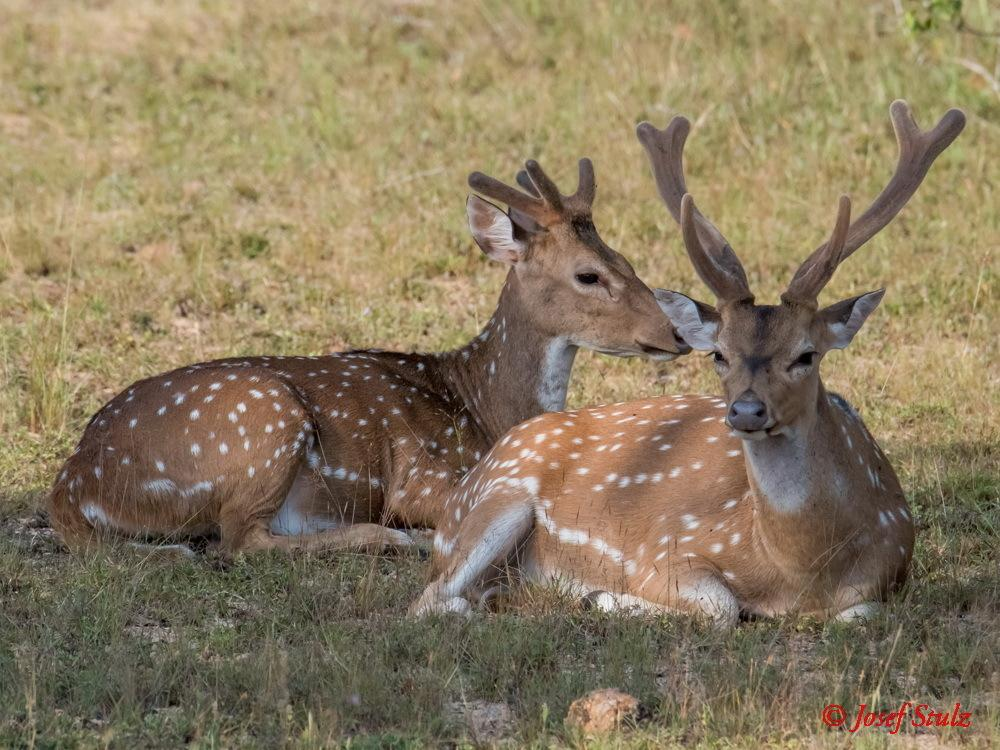Deer: (412, 100, 964, 621), (46, 160, 689, 552)
